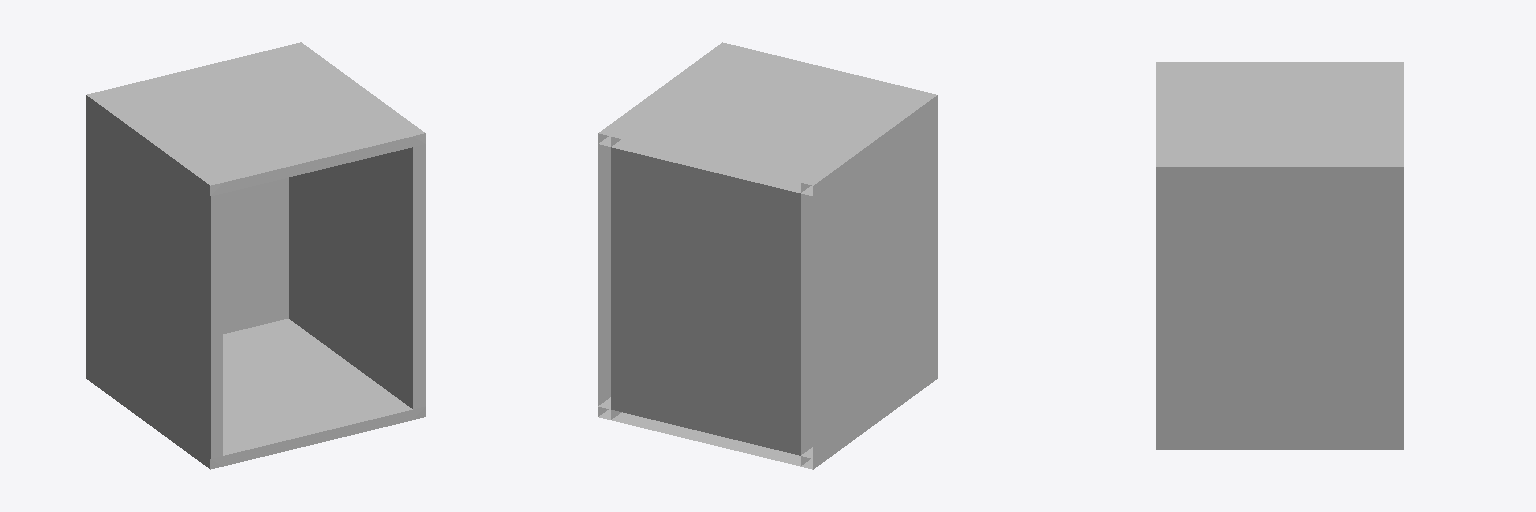
File: Elevator.obj
3 renders of one model, left to right at view 1: azimuth 30°, elevation 25°; view 2: azimuth 150°, elevation 25°; view 3: azimuth 270°, elevation 25°, orthographic.
Visible parts, largest first — view 1: Elevator_shaft:pCube1; view 2: Elevator_shaft:pCube1; view 3: Elevator_shaft:pCube1.
Boxes of the visible parts, <box> form: Elevator_shaft:pCube1: <box>86,42,425,469</box>; Elevator_shaft:pCube1: <box>598,42,937,469</box>; Elevator_shaft:pCube1: <box>1156,62,1403,449</box>.
Bounding box in the file's own units: 7.97 × 10.04 × 7.98.